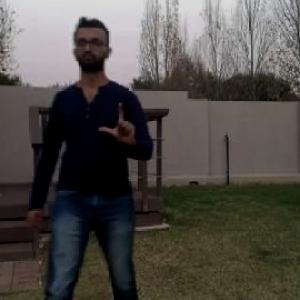land_hand: (94, 97, 144, 153)
